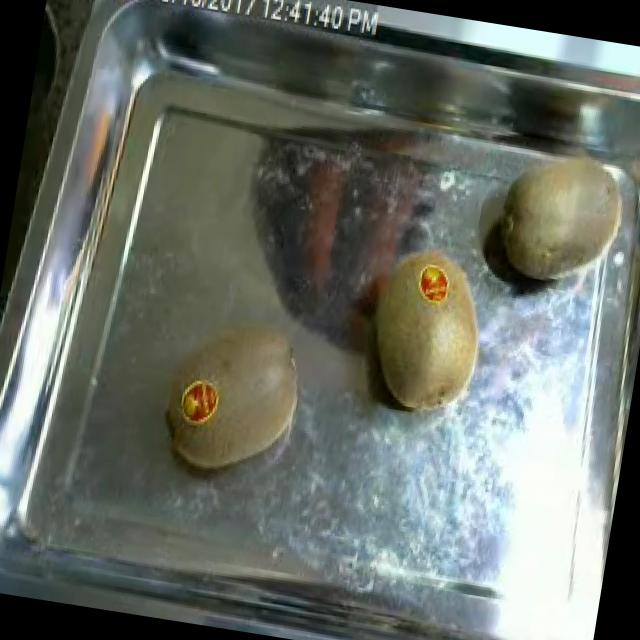Fruit: (152, 296, 322, 492), (478, 125, 640, 305), (351, 242, 504, 428)
